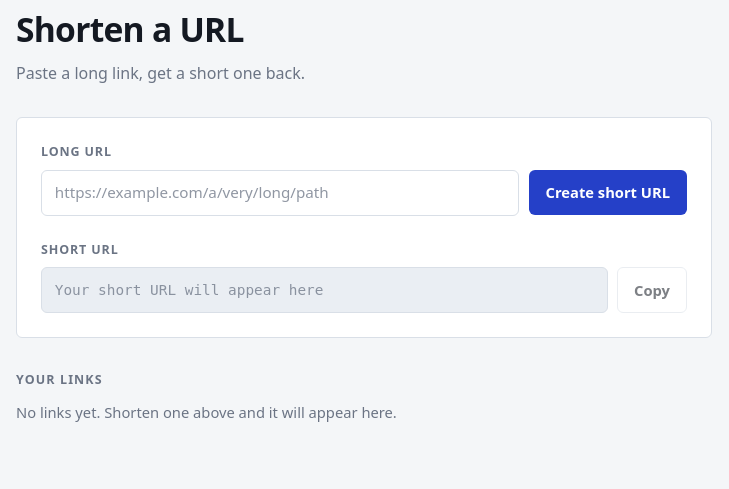
Test: the shortener, end to end › the new link joins the list immediately
Expected: the text "No links yet. Shorten one above and it will appear here." is shown, [16,402,397,422]
Type "https://example.com/one" into the field labelled "Long URL" at [280, 193], box [41,170,519,216]
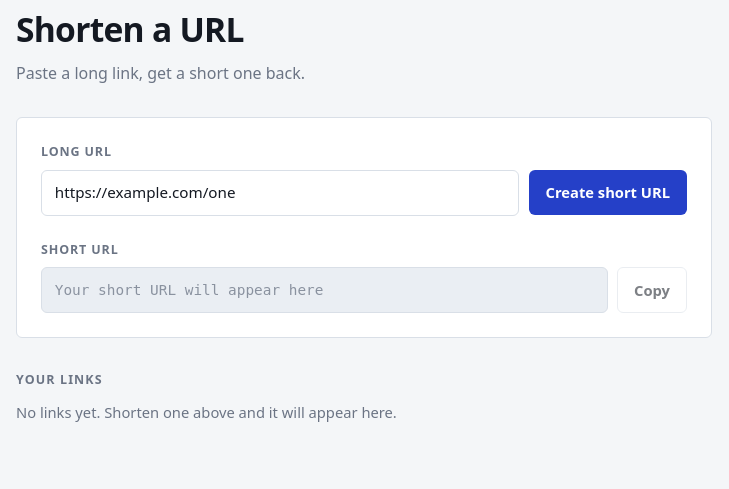
Click the button "Create short URL" at [608, 193], box [529,170,687,215]
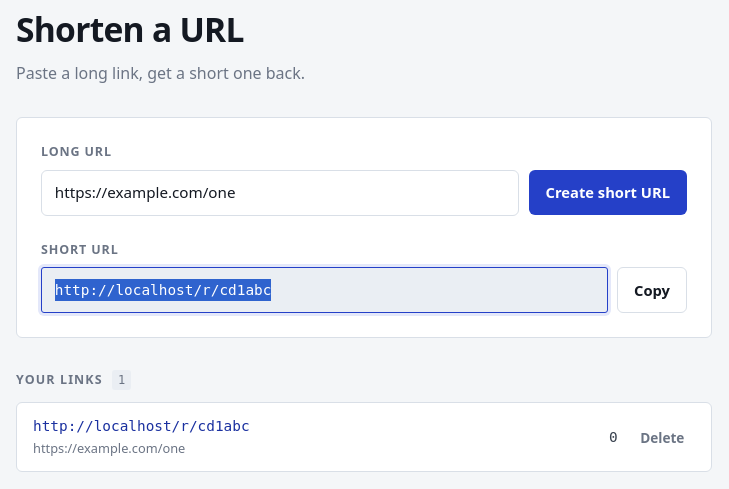
Now the number of list items is 1, box [33,418,695,457]
Now the link "https://example.com/one" is shown, box [33,439,185,457]
